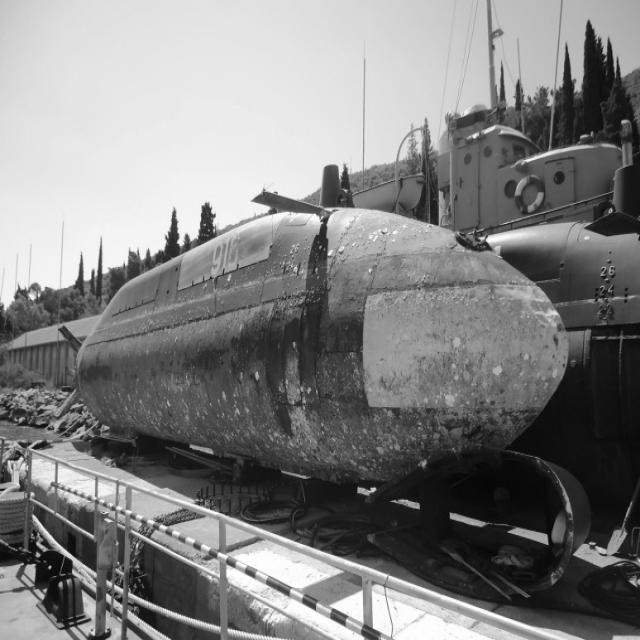submarine: (40, 227, 572, 504)
